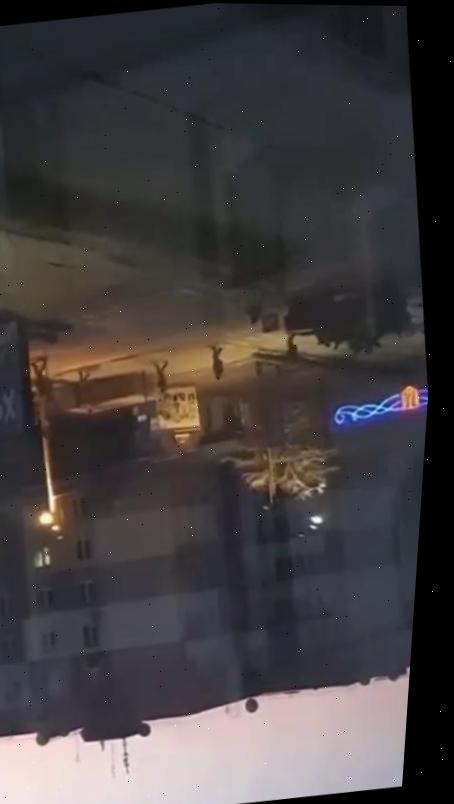armored_car: (277, 278, 416, 361)
person: (150, 358, 171, 395), (207, 343, 226, 380), (281, 332, 300, 362)
